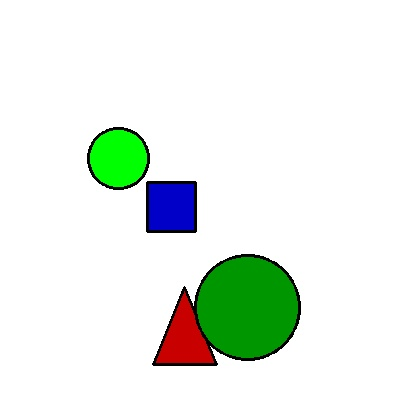circle: (193, 255, 301, 359), (88, 127, 148, 189)
rectangle: (147, 182, 195, 231)
triangle: (153, 287, 216, 364)
